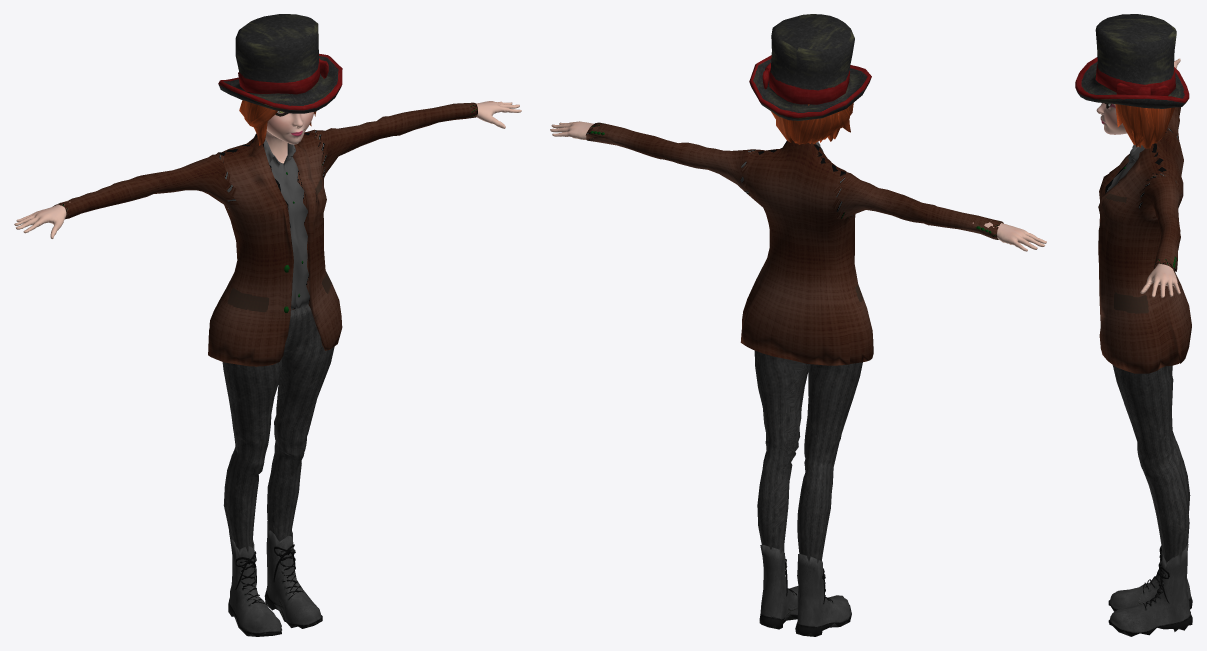
File: shl.obj
3 renders of one model, left to right at view 1: azimuth 30°, elevation 25°; view 2: azimuth 150°, elevation 25°; view 3: azimuth 270°, elevation 25°, orthographic. The views are drawn at different scales.
Parts seen in each view (by area): view 1: Tops, Bottoms, Hats, Shoes, Body, Hair; view 2: Tops, Bottoms, Hats, Shoes, Hair, Body; view 3: Tops, Hats, Bottoms, Shoes, Hair, Body.
Boxes of the visible parts, x1,y1,x2,y2 form: Tops: (53,102,477,366); Bottoms: (222,304,334,552); Hats: (218,14,342,113); Shoes: (228,521,322,636); Body: (14,101,521,238); Hair: (239,100,316,145); Tops: (585,122,1003,365); Bottoms: (754,350,862,571); Hats: (749,14,871,120); Shoes: (759,545,851,636); Hair: (771,103,853,144); Body: (550,114,1046,251); Tops: (1098,107,1191,373); Hats: (1075,14,1189,108); Bottoms: (1112,365,1190,562); Shoes: (1108,543,1192,636); Hair: (1115,104,1175,148); Body: (1096,58,1180,297).
Bounding box in the file's own units: 153 × 174 × 31.18.
Materials: 6 (6 with a texture image).
